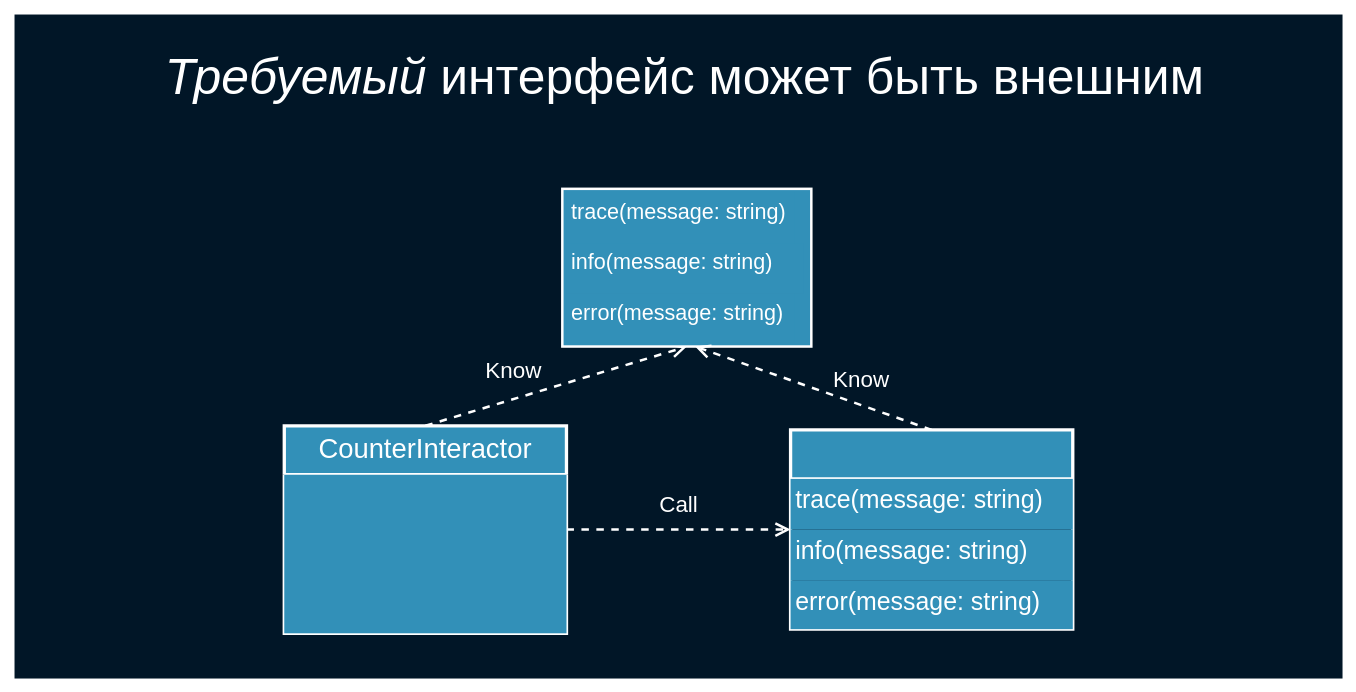
Image size: 1356x692. Some labels were removed from this diagram. The shapes that lost their labels are listed below. From the top down, each one's box as (x1, y1, x2, y2) in pixels, then its label:
(561, 187, 812, 347): «interface» Logger
(788, 428, 1074, 630): ConsoleLogger
(284, 474, 566, 633): increment()
